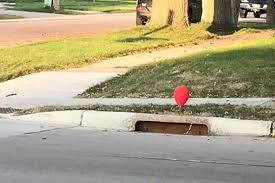red: (173, 85, 189, 107)
